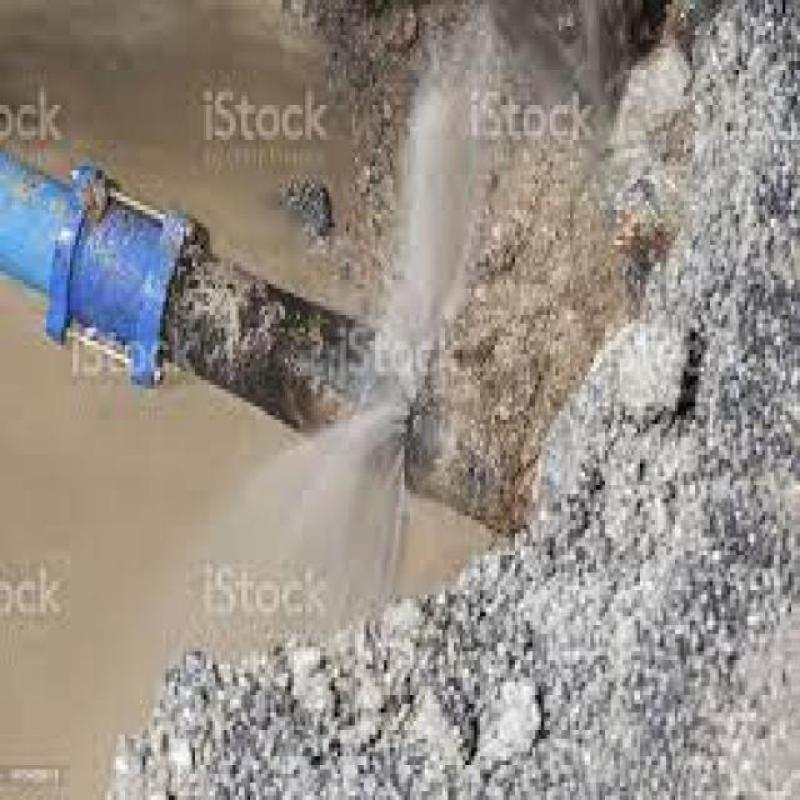Fracture: (290, 317, 454, 508)
